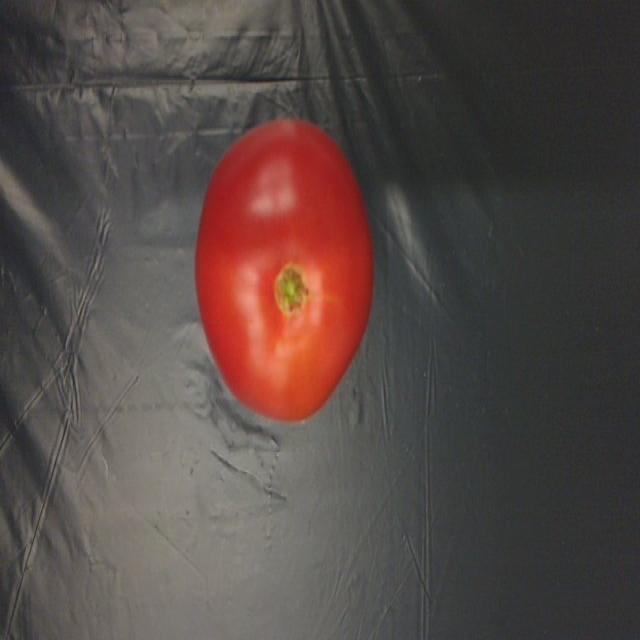kirmizi: (170, 88, 389, 444)
